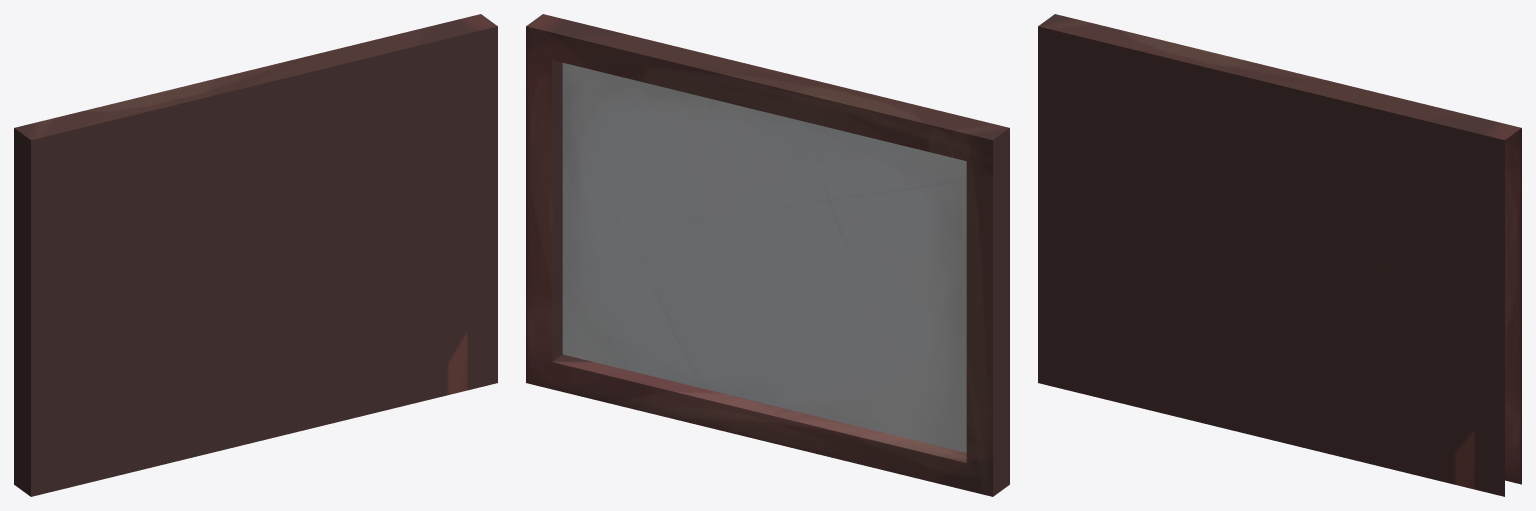
File: PlainHouseWall.fbx
The picture shows the model from 3 angles, left to right: view 1: azimuth 30°, elevation 25°; view 2: azimuth 150°, elevation 25°; view 3: azimuth 330°, elevation 25°; orthographic projection.
Parts seen in each view (by area): view 1: Cube.008; view 2: Cube.008; view 3: Cube.008.
Boxes of the visible parts, box(x1,y1,x2,y2) form: Cube.008: box(14, 14, 497, 496); Cube.008: box(526, 14, 1009, 496); Cube.008: box(1038, 14, 1521, 496).
Bounding box in the file's own units: 188080 × 137317 × 11777.
